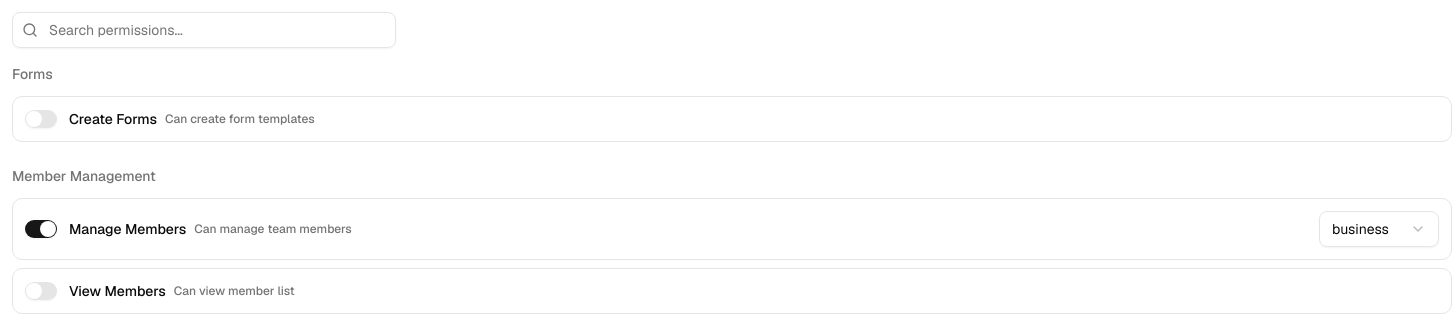
Test: PermissionsEditor › filters permissions by search
Type "form" into the field with placeholder "Search permissions...".
click(204, 30); type("form")  # box [12,12,396,48]
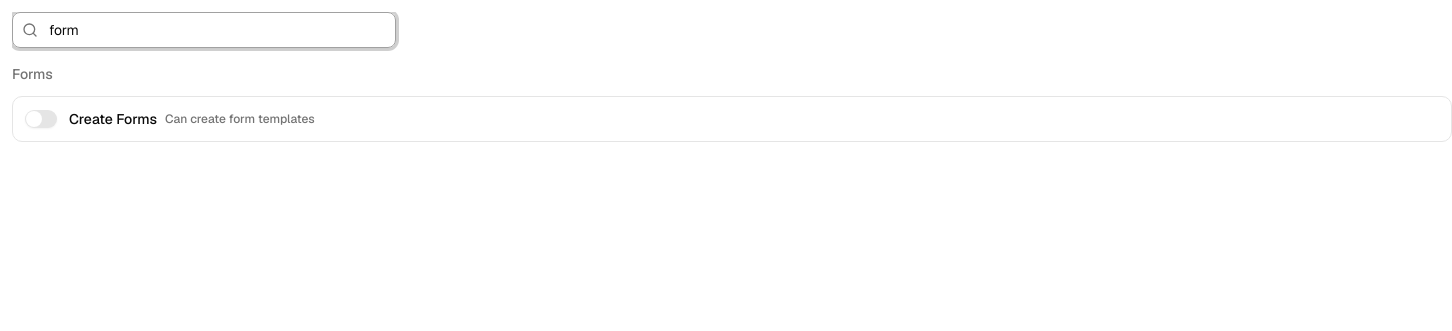
Check: the text "Create Forms" is shown, box [69,109,157,129]
Check: the text "Manage Members" is gone
